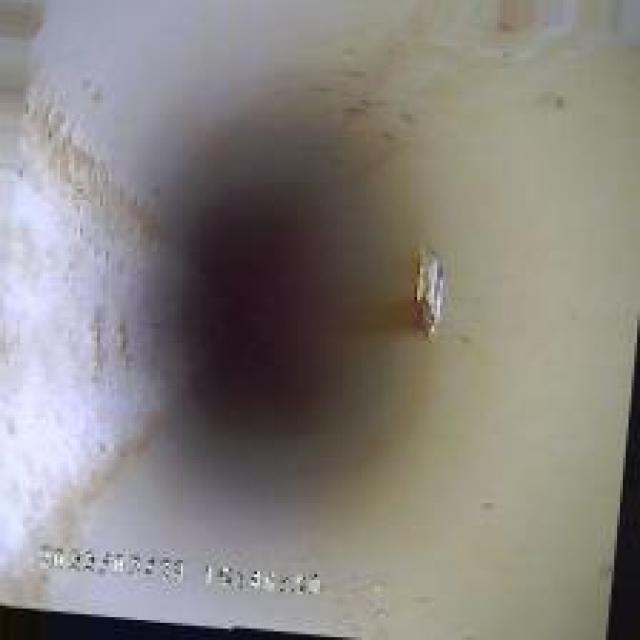ferrule: (400, 226, 457, 340)
